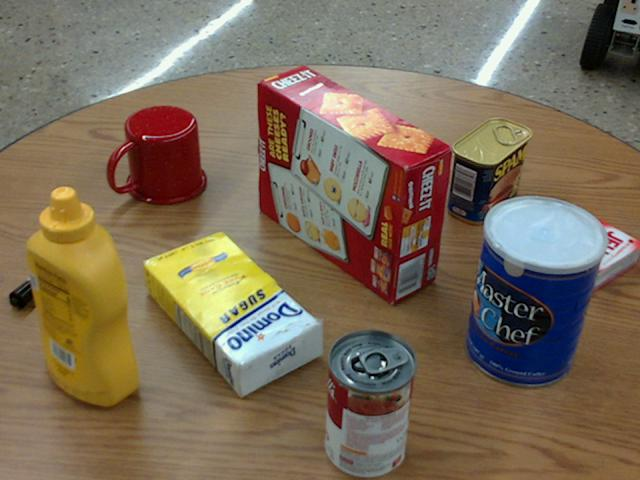cracker_box: (257, 66, 450, 303)
gelatin_box: (534, 211, 639, 293)
large_marker: (9, 227, 96, 304)
master_chef_can: (465, 196, 606, 386)
mug: (107, 106, 206, 203)
mustard_bottle: (24, 186, 135, 403)
potted_meat_can: (448, 117, 531, 223)
sugar_box: (141, 229, 320, 396)
tomato_soup_can: (323, 330, 414, 478)
tuna_fish_can: (272, 79, 345, 152)
